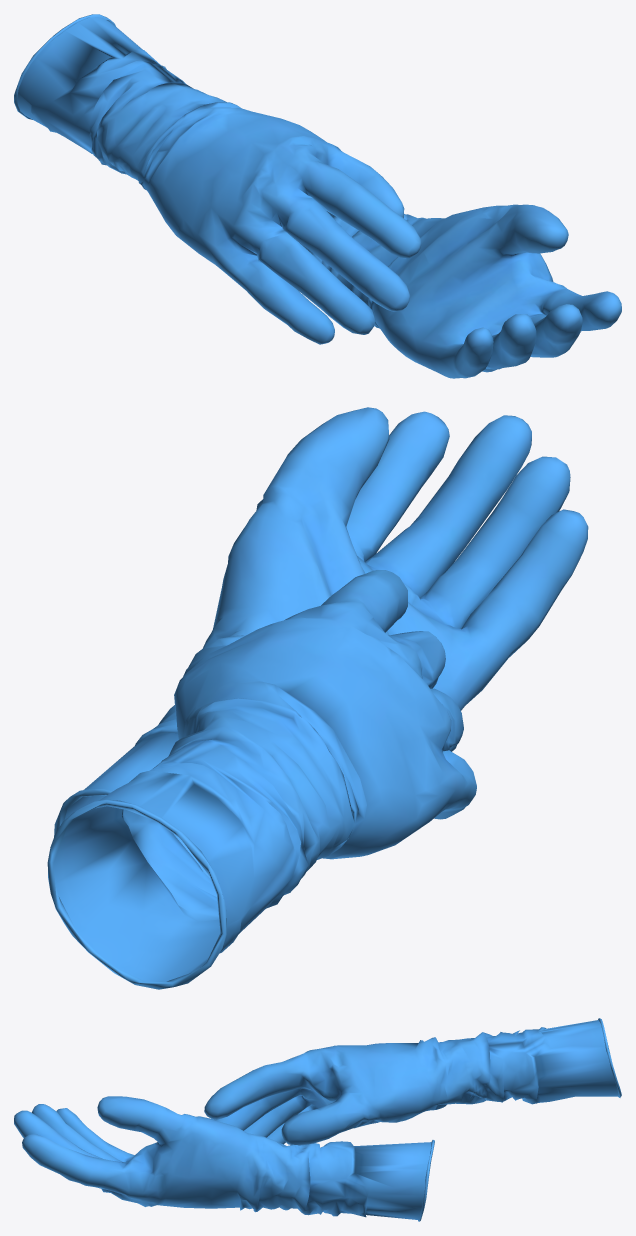
The model's file is gloves.glb.
3 views of the same model, one above another, from view 1: azimuth 30°, elevation 25°; view 2: azimuth 150°, elevation 25°; view 3: azimuth 270°, elevation 25° (orthographic). The views are drawn at different scales.
Visible parts, largest first — view 1: Glove_rubber_low, Glove_rubber_low.001; view 2: Glove_rubber_low, Glove_rubber_low.001; view 3: Glove_rubber_low.001, Glove_rubber_low.
Boxes of the visible parts, x1,y1,x2,y2 form: Glove_rubber_low: [14, 14, 421, 344]; Glove_rubber_low.001: [289, 204, 621, 378]; Glove_rubber_low: [47, 570, 476, 989]; Glove_rubber_low.001: [54, 407, 588, 836]; Glove_rubber_low.001: [14, 1096, 434, 1221]; Glove_rubber_low: [204, 1018, 621, 1145].
Size of the model in its own units: 13.99 by 10.39 by 35.88.
1 material, 1 textured.
